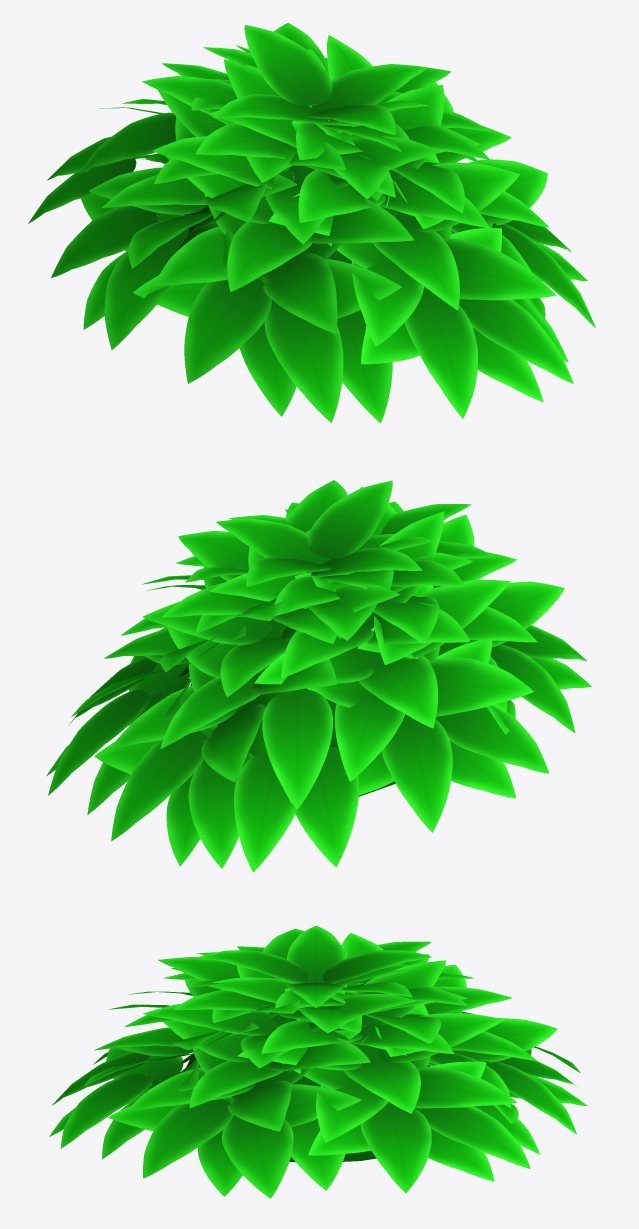
The model's file is Bush.fbx.
3 renders of one model, top to bottom at view 1: azimuth 30°, elevation 25°; view 2: azimuth 150°, elevation 25°; view 3: azimuth 270°, elevation 25°, orthographic. The views are drawn at different scales.
Visible parts, largest first — view 1: group17_pPlane64; view 2: group17_pPlane64; view 3: group17_pPlane64.
Part boxes in pixels (left/top/right/bottom): group17_pPlane64: left=28, top=22, right=595, bottom=423; group17_pPlane64: left=46, top=480, right=591, bottom=872; group17_pPlane64: left=49, top=925, right=587, bottom=1198.
Size of the model in its own units: 0.4389 by 0.2019 by 0.6371.
